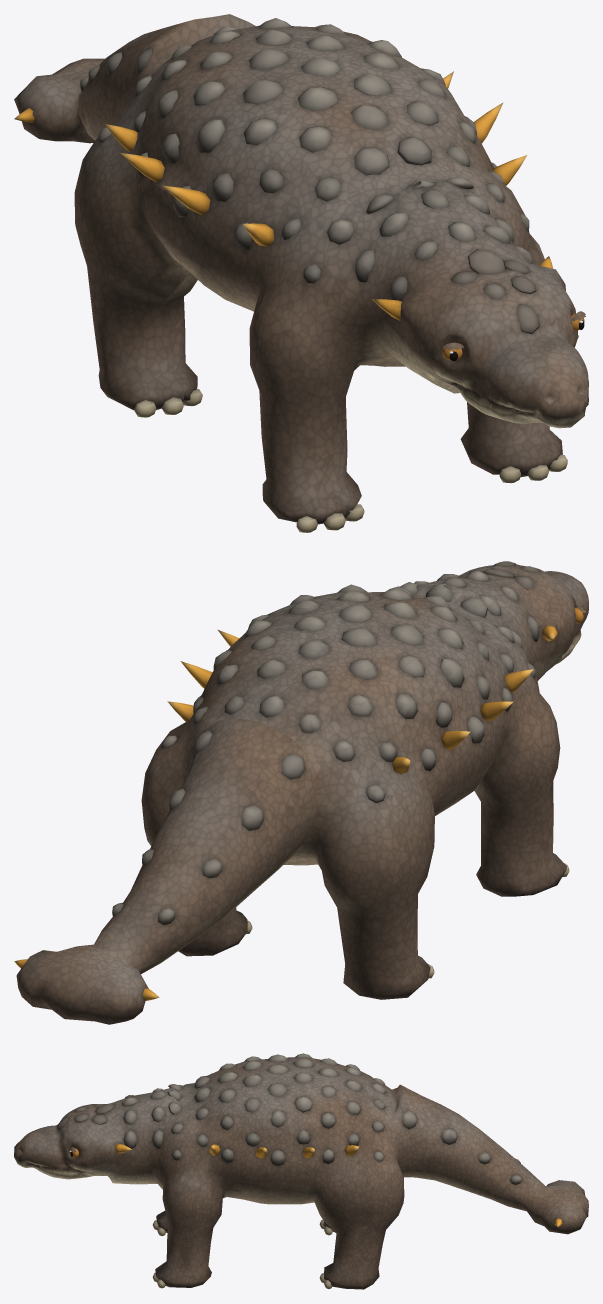
The model's file is armordino.fbx.
The picture shows the model from 3 angles, top to bottom: view 1: azimuth 30°, elevation 25°; view 2: azimuth 150°, elevation 25°; view 3: azimuth 270°, elevation 25°; orthographic projection. The views are drawn at different scales.
Visible parts, largest first — view 1: ArmorDino_Body; view 2: ArmorDino_Body; view 3: ArmorDino_Body.
Boxes of the visible parts, x1=… form: ArmorDino_Body: x1=14, y1=14, x2=588, y2=532; ArmorDino_Body: x1=14, y1=561, x2=588, y2=1024; ArmorDino_Body: x1=14, y1=1053, x2=588, y2=1289.
Size of the model in its own units: 2.99 by 3.07 by 8.29.
Materials: 2 (1 with a texture image).
